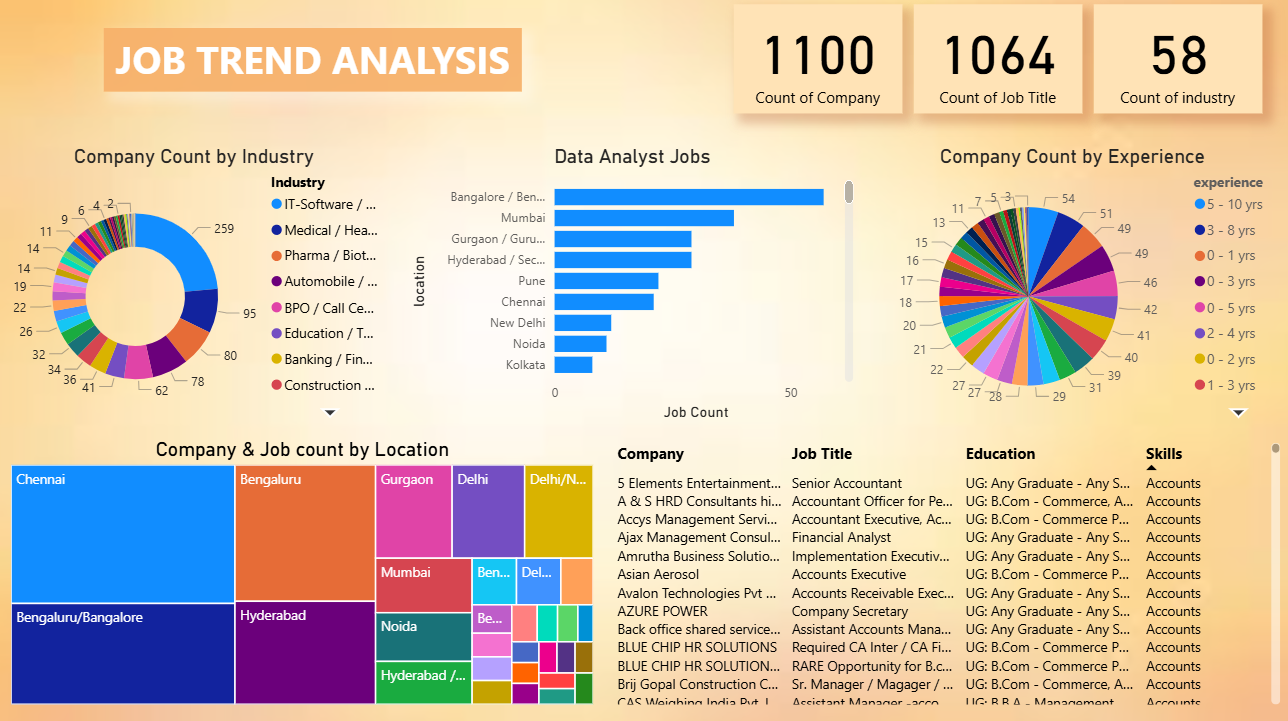

What the dashboard file says about the page in this screenshot:
{"tool":"powerbi","page":{"name":"Page 1","canvas":[1280,720],"ordinal":0},"visuals":[{"type":"tableEx","fields":{"Values":["naukri_com-job_sample.Company","naukri_com-job_sample.Job Title","naukri_com-job_sample.education","naukri_com-job_sample.Skills"]},"box":[600.6,436.6,666.9,266.5],"z":0},{"type":"donutChart","title":"Company Count by Industry","fields":{"Y":["CountNonNull(naukri_com-job_sample.Company)"],"Category":["naukri_com-job_sample.industry"]},"box":[0,149.5,390.8,275],"z":1000},{"type":"card","fields":{"Values":["CountNonNull(naukri_com-job_sample.Company)"]},"box":[724.8,10.9,165.2,107.3],"z":2000},{"type":"card","fields":{"Values":["Count(naukri_com-job_sample.Job Title)"]},"box":[902.1,10.9,165.2,107.3],"z":3000},{"type":"card","fields":{"Values":["Count(naukri_com-job_sample.industry)"]},"box":[1078.2,10.9,165.2,107.3],"z":4000},{"type":"treemap","title":"Company & Job count by Location","fields":{"Group":["Naukri.joblocation_address"],"Values":["Sum(Naukri.Count)"]},"box":[10.9,436.6,581.3,266.5],"z":5000},{"type":"barChart","title":"Data Analyst Jobs","fields":{"Category":["DataAnalystJobs.location"],"Y":["CountNonNull(DataAnalystJobs.job_title)"]},"box":[404,149.5,443.8,275],"z":6000},{"type":"pieChart","title":"Company Count by Experience","fields":{"Category":["exp.experience"],"Y":["Sum(exp.Count)"]},"box":[847.8,149.5,419.7,275],"z":7000},{"type":"textbox","box":[107.3,33.8,410.1,62.7],"z":8000}]}

Visuals, with their boxes in screenshot pixels (x1, y1, x2, y2), scaled from the page's 1280x720 canvas onto the 1288x721 screenshot:
tableEx - naukri_com-job_sample.Company x naukri_com-job_sample.Job Title: 604, 437, 1275, 704
"Company Count by Industry" donutChart: 0, 150, 393, 425
card - CountNonNull(naukri_com-job_sample.Company): 729, 11, 896, 118
card - Count(naukri_com-job_sample.Job Title): 908, 11, 1074, 118
card - Count(naukri_com-job_sample.industry): 1085, 11, 1251, 118
"Company & Job count by Location" treemap: 11, 437, 596, 704
"Data Analyst Jobs" barChart: 407, 150, 853, 425
"Company Count by Experience" pieChart: 853, 150, 1275, 425
textbox: 108, 34, 521, 97
